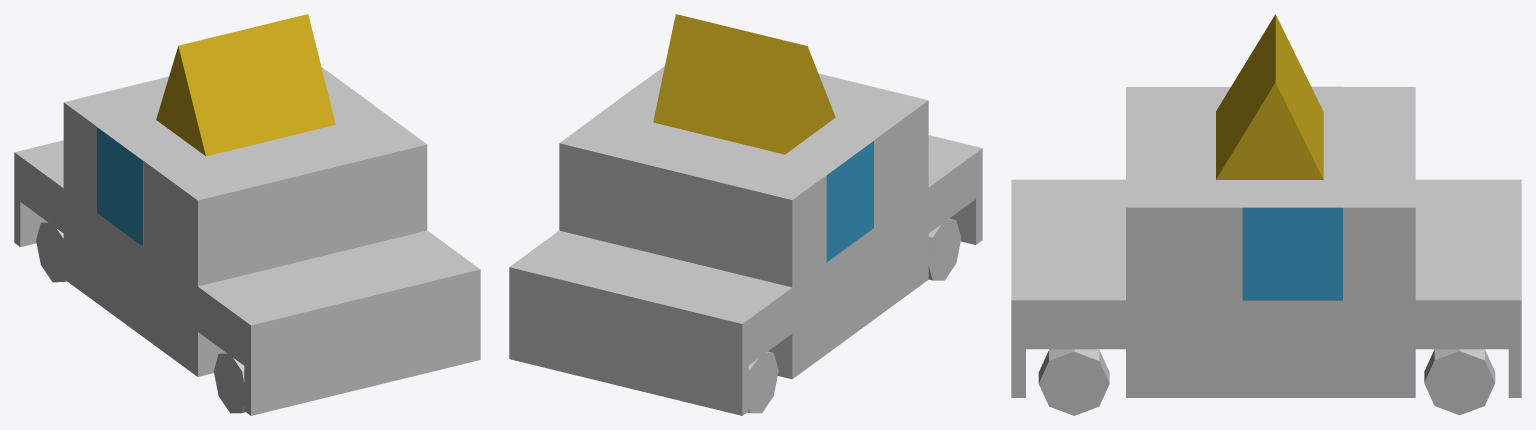
The model's file is lo-poly-v-windows.fbx.
3 views of the same model, side by side, from view 1: azimuth 30°, elevation 25°; view 2: azimuth 150°, elevation 25°; view 3: azimuth 270°, elevation 25° (orthographic). The views are drawn at different scales.
Visible parts, largest first — view 1: Car Body; view 2: Car Body; view 3: Car Body.
Boxes of the visible parts, <box> form: Car Body: <box>14,14,480,415</box>; Car Body: <box>509,14,982,415</box>; Car Body: <box>1011,14,1521,415</box>.
Size of the model in its own units: 532 by 639 by 947.
